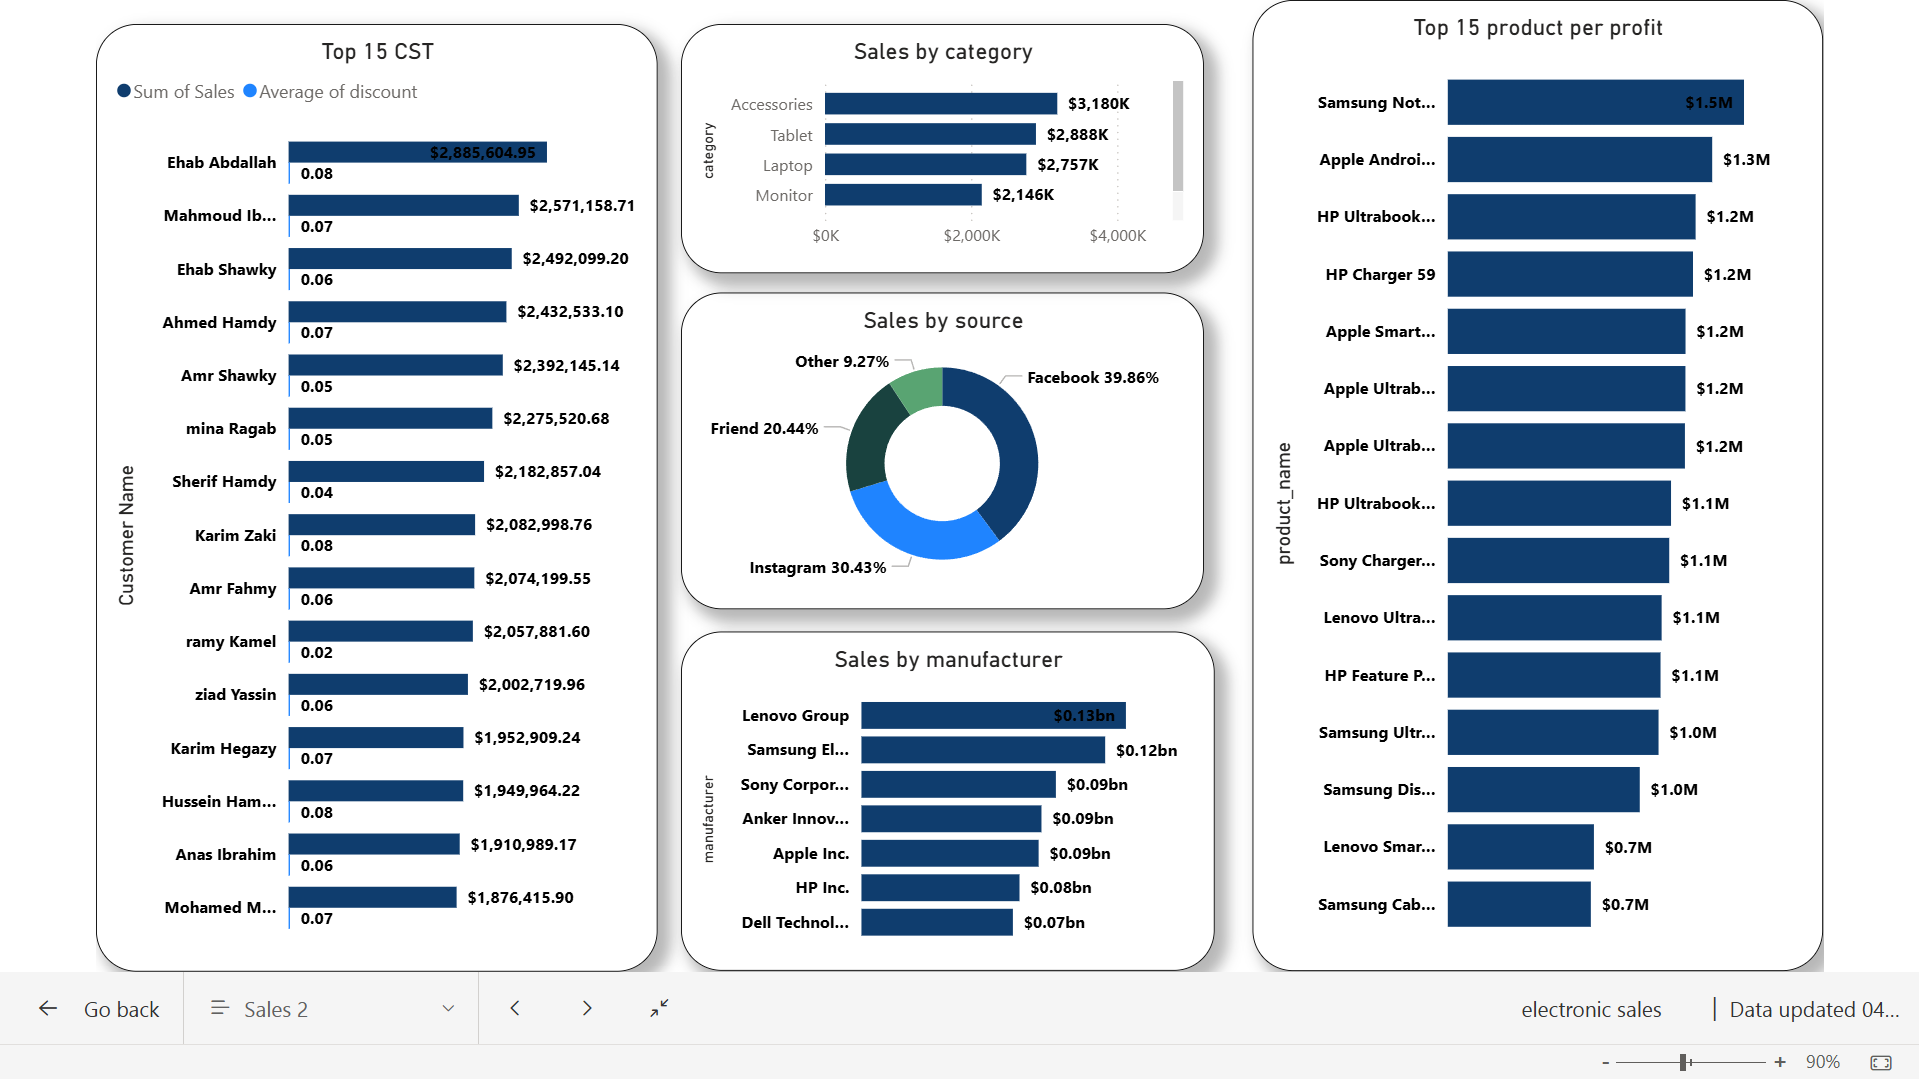

The page's visual inventory and layout, read from the dashboard file:
{"tool":"powerbi","page":{"name":"Sales 2","canvas":[1280,720],"ordinal":2},"visuals":[{"type":"clusteredBarChart","title":"Top 15 CST","fields":{"Category":["Customers.Customer Name"],"Y":["Sum(Orders.Sales)","Avg(Orders.discount)"]},"box":[0,18.3,416.2,701.7],"z":0},{"type":"donutChart","title":"Sales by source","fields":{"Category":["Customers.source"],"Y":["Sum(Orders.Sales)"]},"box":[433.1,216.5,387.6,234.7],"z":1000},{"type":"clusteredBarChart","title":"Sales by category","fields":{"Y":["Sum(Orders.Sales)"],"Category":["Products.category"]},"box":[433.1,18.2,387.6,184.7],"z":2000},{"type":"clusteredBarChart","title":"Sales by manufacturer","fields":{"Category":["Products.manufacturer"],"Y":["Sum(Orders.Sales)"]},"box":[433.1,467.9,395.2,251.4],"z":3000},{"type":"clusteredBarChart","title":"Top 15 product per profit","fields":{"Category":["Products.product_name"],"Y":["Sum(Orders.profit)"]},"box":[857,0,422.5,719.2],"z":4000}]}

Visuals, with their boxes on the page's 1280x720 design canvas (x1, y1, x2, y2). These are canvas units, not pixel positions in the 1919x1079 screenshot, which may show the page scaled, cropped or inside an application window:
"Top 15 CST" clusteredBarChart: pyautogui.locateOnScreen(0, 18, 416, 720)
"Sales by source" donutChart: pyautogui.locateOnScreen(433, 216, 821, 451)
"Sales by category" clusteredBarChart: pyautogui.locateOnScreen(433, 18, 821, 203)
"Sales by manufacturer" clusteredBarChart: pyautogui.locateOnScreen(433, 468, 828, 719)
"Top 15 product per profit" clusteredBarChart: pyautogui.locateOnScreen(857, 0, 1280, 719)
